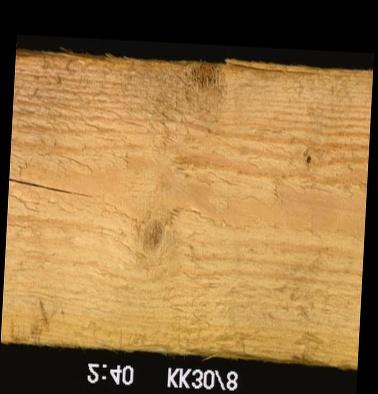edge_knot: (188, 57, 231, 103)
small_knot: (301, 153, 320, 168)
sound_knot: (135, 209, 180, 259)
split: (8, 176, 98, 198), (237, 65, 322, 80)
